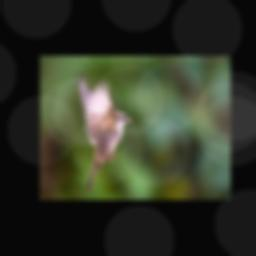Sparrow: (77, 70, 132, 192)
